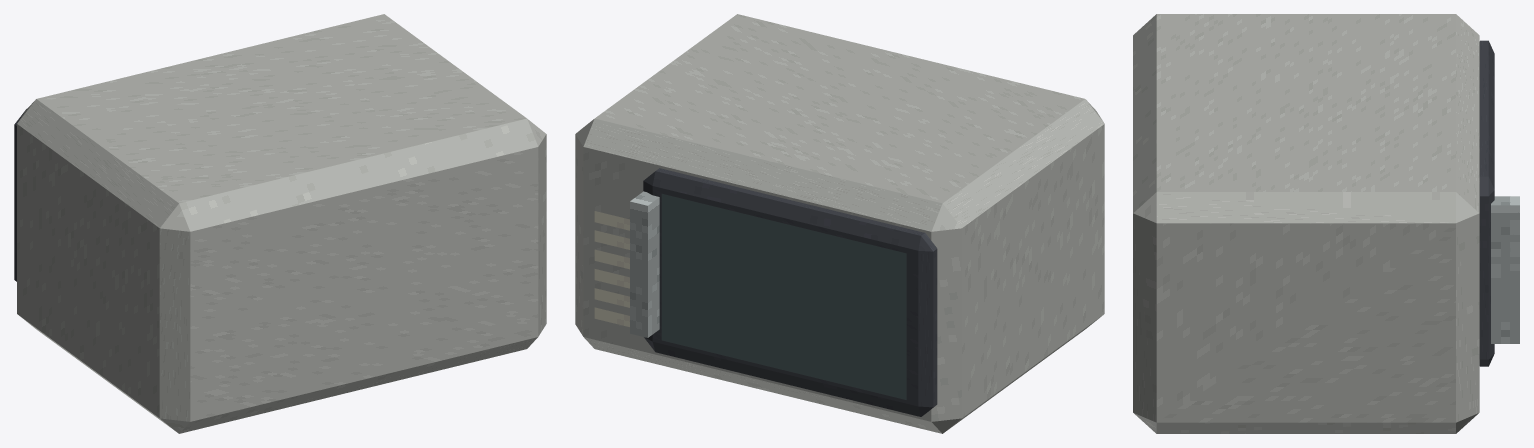
Rendered from microwave.glb.
3 views of the same model, side by side, from view 1: azimuth 30°, elevation 25°; view 2: azimuth 150°, elevation 25°; view 3: azimuth 270°, elevation 25° (orthographic). The views are drawn at different scales.
Parts seen in each view (by area): view 1: block_appliance housing; view 2: block_appliance housing, block_window, block_door frame, block_vertical handle; view 3: block_appliance housing, block_door frame, block_vertical handle.
Boxes of the visible parts, x1,y1,x2,y2 form: block_appliance housing: (17, 14, 546, 433); block_appliance housing: (575, 14, 1104, 433); block_window: (661, 193, 906, 399); block_door frame: (643, 168, 937, 416); block_vertical handle: (630, 191, 659, 337); block_appliance housing: (1133, 14, 1479, 433); block_door frame: (1479, 40, 1494, 366); block_vertical handle: (1491, 196, 1519, 343).
Bounding box in the file's own units: 0.3911 × 0.2228 × 0.3228.
1 material, 1 textured.
